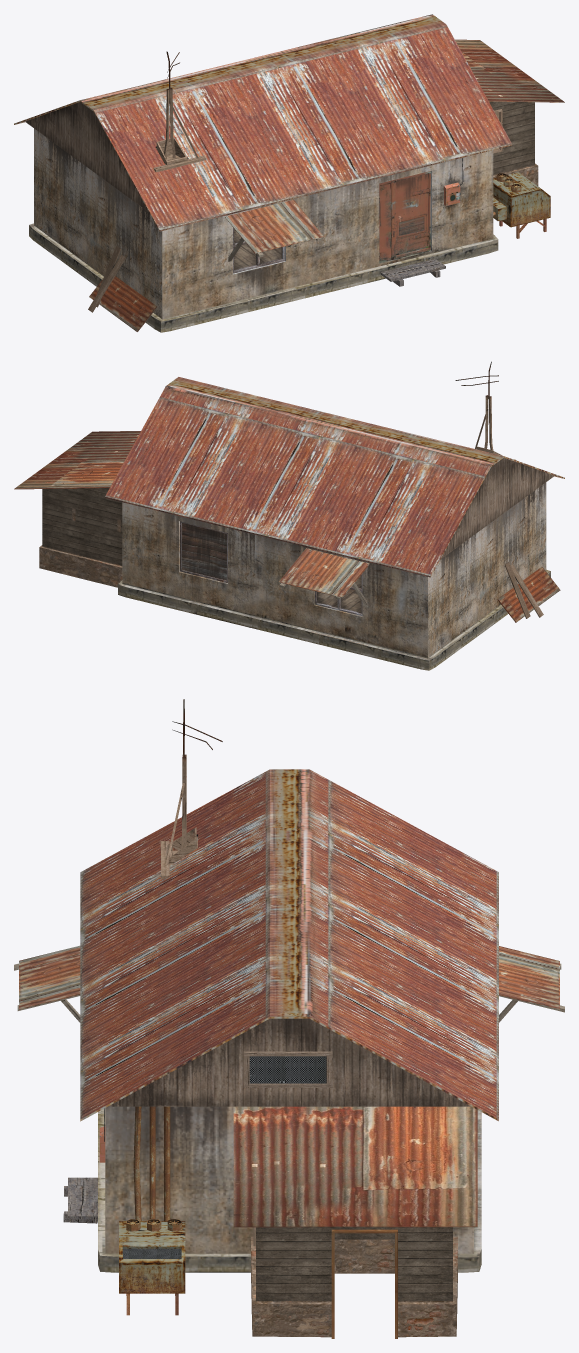
The model's file is low__house__building__apocalypse__dirty.glb.
3 views of the same model, one above another, from view 1: azimuth 30°, elevation 25°; view 2: azimuth 150°, elevation 25°; view 3: azimuth 270°, elevation 25° (orthographic). The views are drawn at different scales.
Visible parts, largest first — view 1: Cube.001, Cube, Cube.015, Cube.026, Cube.007, Cube.024, Door_Size, Cube.019, Cube.021, Cube.011, Cube.006, Cube.022 (+3 smaller); view 2: Cube.001, Cube, Cube.024, Cube.026, Cube.015, Cube.003, Cube.004, Cube.021, Cube.023, Cube.025; view 3: Cube.001, Cube.026, Cube, Cube.024, Cube.015, Cube.019, Cube.007, Cube.003, Cylinder.001, Cube.014, Cube.006, Cube.013 (+3 smaller).
Part boxes in pixels (bbox=[...]): Cube.001: bbox=[14, 14, 512, 231]; Cube: bbox=[29, 128, 498, 332]; Cube.015: bbox=[26, 102, 148, 211]; Cube.026: bbox=[455, 39, 564, 102]; Cube.007: bbox=[225, 200, 323, 253]; Cube.024: bbox=[489, 101, 538, 185]; Door_Size: bbox=[395, 173, 428, 255]; Cube.019: bbox=[493, 172, 550, 227]; Cube.021: bbox=[89, 276, 157, 331]; Cube.011: bbox=[379, 171, 430, 262]; Cube.006: bbox=[380, 259, 445, 286]; Cube.022: bbox=[153, 137, 205, 172]; Cube.001: bbox=[105, 377, 564, 577]; Cube: bbox=[118, 482, 550, 670]; Cube.024: bbox=[39, 488, 122, 587]; Cube.026: bbox=[14, 431, 140, 489]; Cube.015: bbox=[440, 458, 553, 559]; Cube.003: bbox=[279, 548, 369, 597]; Cube.004: bbox=[182, 523, 226, 580]; Cube.021: bbox=[497, 567, 560, 622]; Cube.023: bbox=[505, 562, 543, 618]; Cube.025: bbox=[455, 361, 498, 450]; Cube.001: bbox=[80, 769, 498, 1121]; Cube.026: bbox=[233, 1106, 477, 1227]; Cube: bbox=[98, 1106, 481, 1272]; Cube.024: bbox=[251, 1227, 457, 1337]; Cube.015: bbox=[108, 836, 470, 1106]; Cube.019: bbox=[119, 1221, 185, 1293]; Cube.007: bbox=[19, 945, 80, 1009]; Cube.003: bbox=[499, 946, 559, 1009]; Cylinder.001: bbox=[133, 1106, 170, 1221]; Cube.014: bbox=[249, 1056, 326, 1083]; Cube.006: bbox=[63, 1177, 97, 1223]; Cube.013: bbox=[243, 1051, 332, 1087].
Bounding box in the file's own units: 14.43 × 7.26 × 9.96.
Materials: 7 (6 with a texture image).
